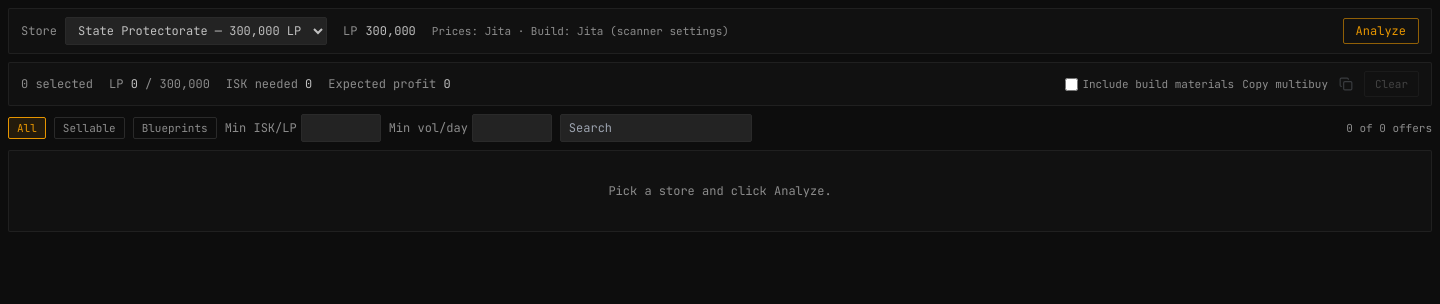
LPStoreTab › reads the LP balance from the character and ranks offers after analysis
The width and height of the screenshot is (1440, 304).
Expected: the text "300,000" is shown, [365,23,416,39]
What coordinates should you click on to do the following:
click the button "Analyze"
I would click on:
 (1381, 31)
Its box is [1343,18,1419,44].
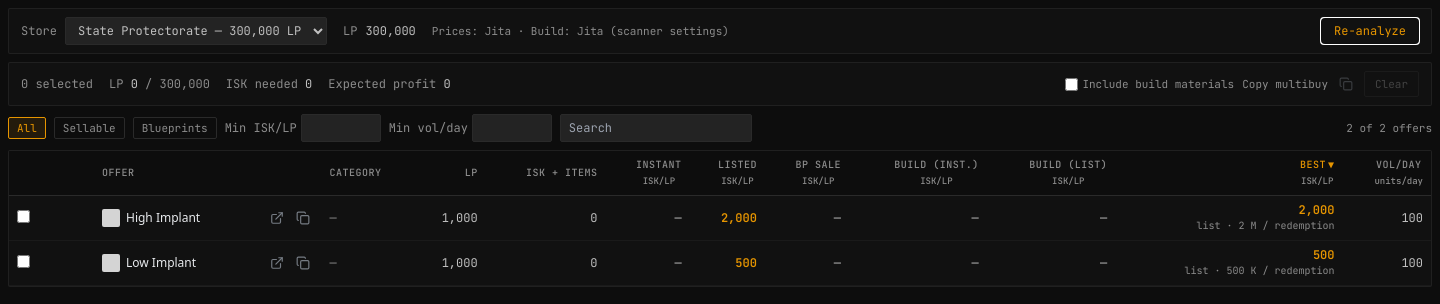
Result: the text "High Implant" is shown at [126,209,200,226]
Result: the elements "Implant" read "High Implant", "Low Implant", in this order at [126,209,200,226]; [126,254,196,271]
